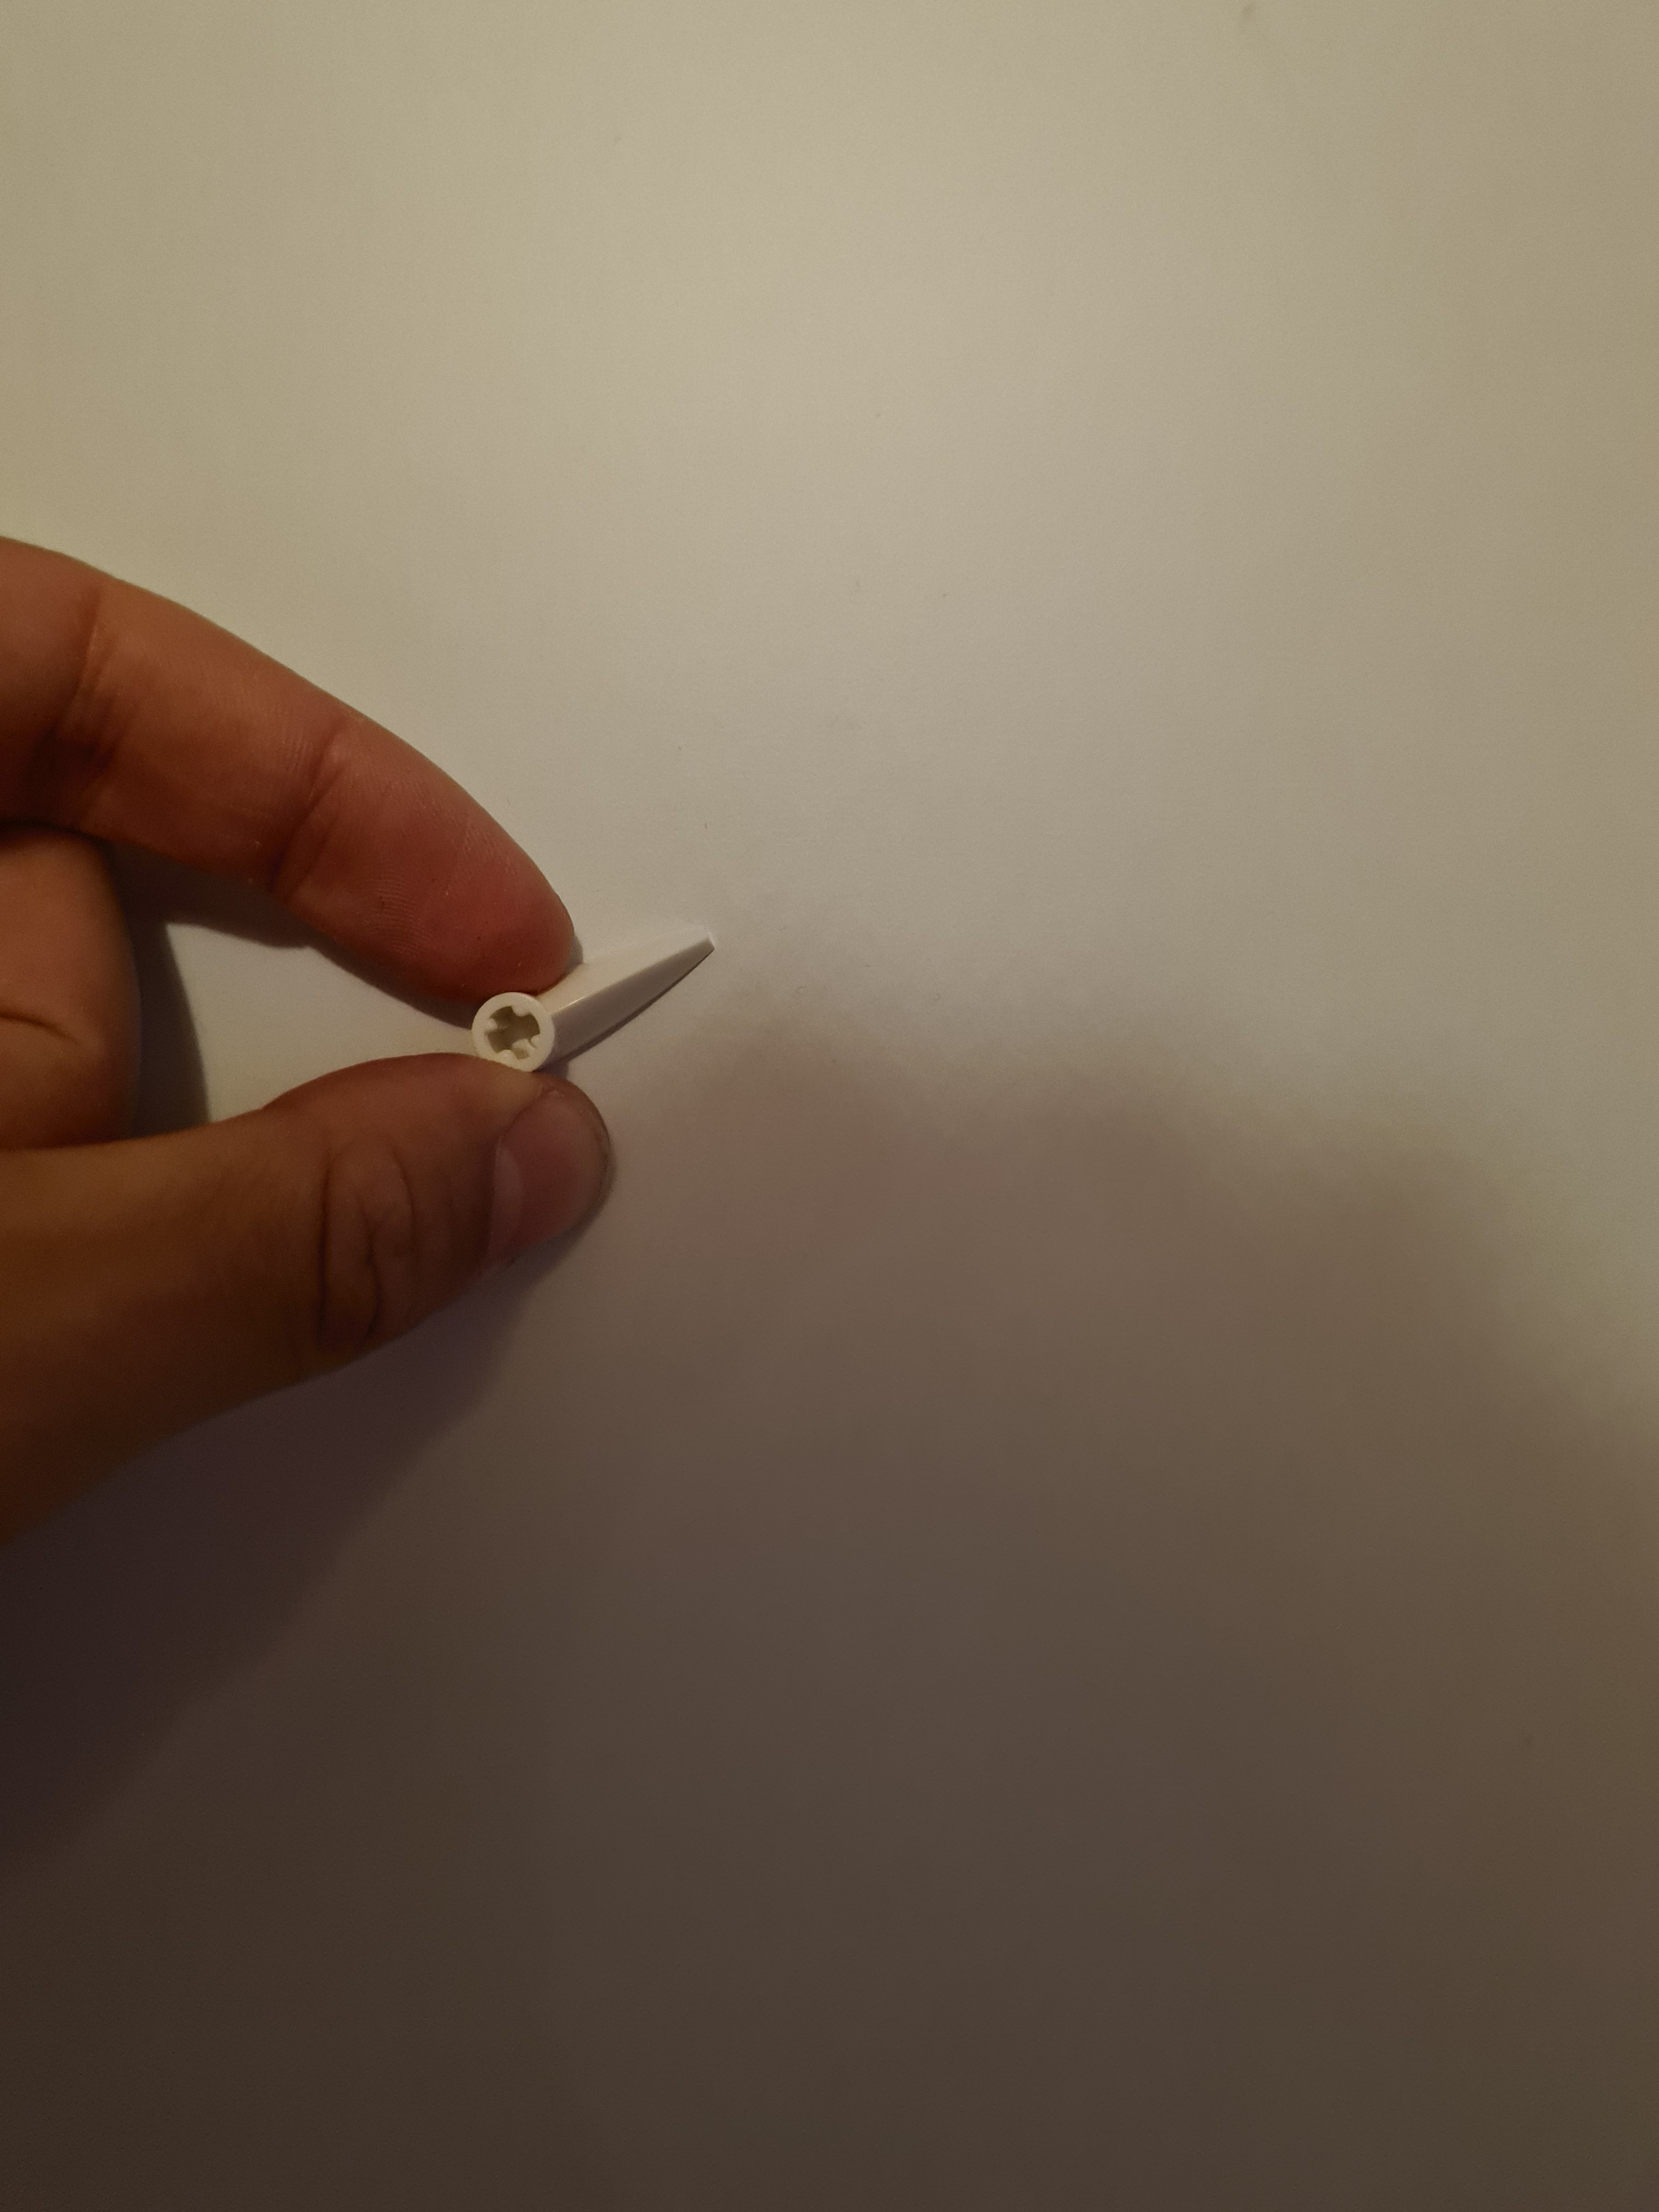Kappe: (446, 900, 723, 1130)
